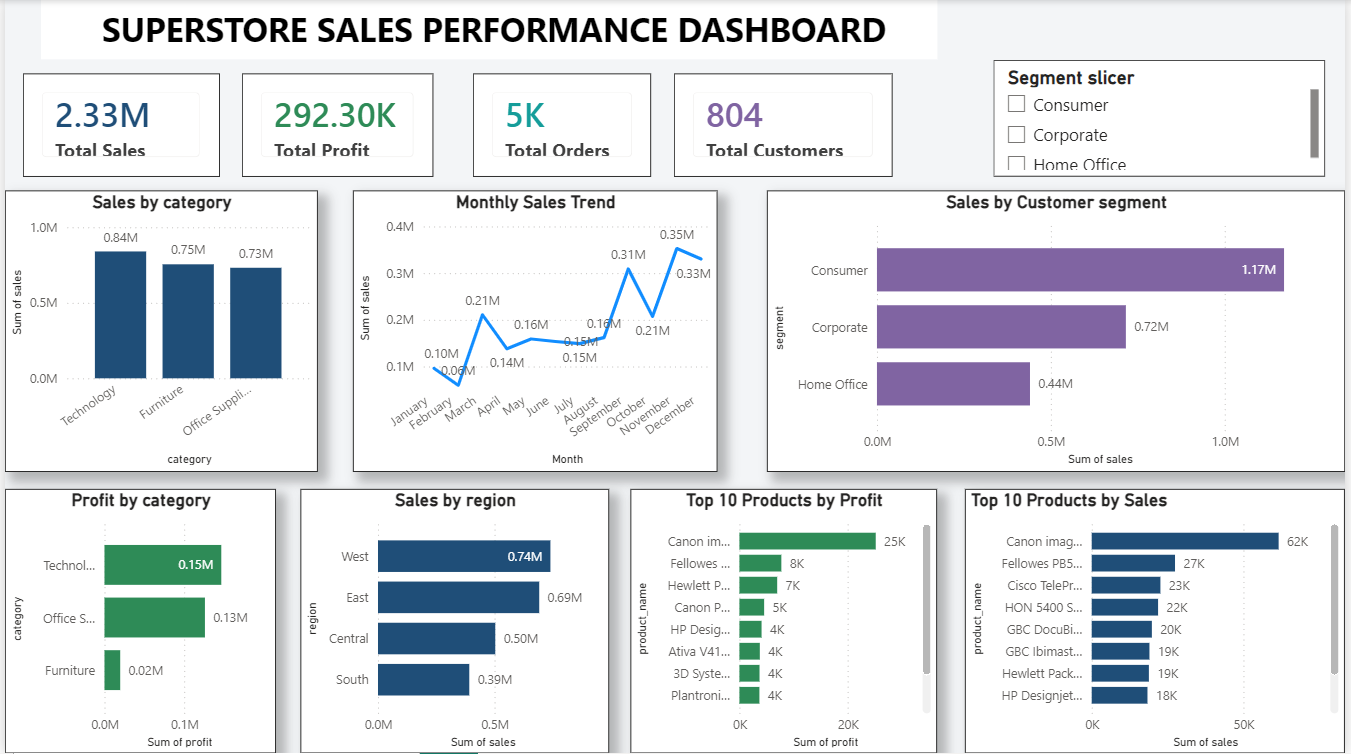

The page's visual inventory and layout, read from the dashboard file:
{"tool":"powerbi","page":{"name":"Superstore_Sales_Performance_Dashboard","canvas":[1280,720],"ordinal":0},"visuals":[{"type":"cardVisual","fields":{"Data":["Superstore_Cleaned.Total Sales"]},"box":[17.5,70,187.7,98.6],"z":0},{"type":"cardVisual","fields":{"Data":["Superstore_Cleaned.Total Profit"]},"box":[225.9,70,182.9,98.6],"z":1000},{"type":"cardVisual","fields":{"Data":["Superstore_Cleaned.Total Orders"]},"box":[447,70,170.2,98.6],"z":2000},{"type":"cardVisual","fields":{"Data":["Superstore_Cleaned.Total Customers"]},"box":[639.4,70,208.4,98.6],"z":3000},{"type":"clusteredColumnChart","title":"Sales by category","fields":{"Category":["Superstore_Cleaned.category"],"Y":["Sum(Superstore_Cleaned.sales)"]},"box":[0,181.4,298.6,268.3],"z":4000},{"type":"clusteredBarChart","title":"Profit by category","fields":{"Category":["Superstore_Cleaned.category"],"Y":["Sum(Superstore_Cleaned.profit)"]},"box":[0,466.8,258.9,253.2],"z":5000},{"type":"lineChart","title":"Monthly Sales Trend","fields":{"Y":["Sum(Superstore_Cleaned.sales)"],"Category":["Superstore_Cleaned.order_date_clean.Variation.Date Hierarchy.Year","Superstore_Cleaned.order_date_clean.Variation.Date Hierarchy.Month"]},"box":[332.6,181.4,347.7,268.3],"z":6000},{"type":"clusteredBarChart","title":"Sales by region","fields":{"Category":["Superstore_Cleaned.region"],"Y":["Sum(Superstore_Cleaned.sales)"]},"box":[281.6,466.8,294.8,253.2],"z":7000},{"type":"clusteredBarChart","title":"Sales by Customer segment","fields":{"Category":["Superstore_Cleaned.segment"],"Y":["Sum(Superstore_Cleaned.sales)"]},"box":[727.6,181.4,551.8,268.3],"z":8000},{"type":"clusteredBarChart","title":"Top  10 Products by Sales","fields":{"Category":["Superstore_Cleaned.product_name"],"Y":["Sum(Superstore_Cleaned.sales)"]},"box":[916.5,466.8,362.8,253.2],"z":9000},{"type":"slicer","fields":{"Values":["Superstore_Cleaned.segment"]},"box":[943.2,57.3,316.5,111.3],"z":10000},{"type":"clusteredBarChart","title":"Top 10 Products by Profit","fields":{"Category":["Superstore_Cleaned.product_name"],"Y":["Sum(Superstore_Cleaned.profit)"]},"box":[597.2,466.8,292.9,253.2],"z":11000},{"type":"textbox","box":[34,0,856.1,56.7],"z":12000}]}

Visuals, with their boxes in screenshot pixels (x1, y1, x2, y2), scaled from the page's 1280x720 canvas onto the 1351x754 screenshot:
cardVisual - Superstore_Cleaned.Total Sales: crop(18, 73, 217, 177)
cardVisual - Superstore_Cleaned.Total Profit: crop(238, 73, 431, 177)
cardVisual - Superstore_Cleaned.Total Orders: crop(472, 73, 651, 177)
cardVisual - Superstore_Cleaned.Total Customers: crop(675, 73, 895, 177)
"Sales by category" clusteredColumnChart: crop(0, 190, 315, 471)
"Profit by category" clusteredBarChart: crop(0, 489, 273, 753)
"Monthly Sales Trend" lineChart: crop(351, 190, 718, 471)
"Sales by region" clusteredBarChart: crop(297, 489, 608, 753)
"Sales by Customer segment" clusteredBarChart: crop(768, 190, 1350, 471)
"Top  10 Products by Sales" clusteredBarChart: crop(967, 489, 1350, 753)
slicer - Superstore_Cleaned.segment: crop(996, 60, 1330, 177)
"Top 10 Products by Profit" clusteredBarChart: crop(630, 489, 939, 753)
textbox: crop(36, 0, 939, 59)
